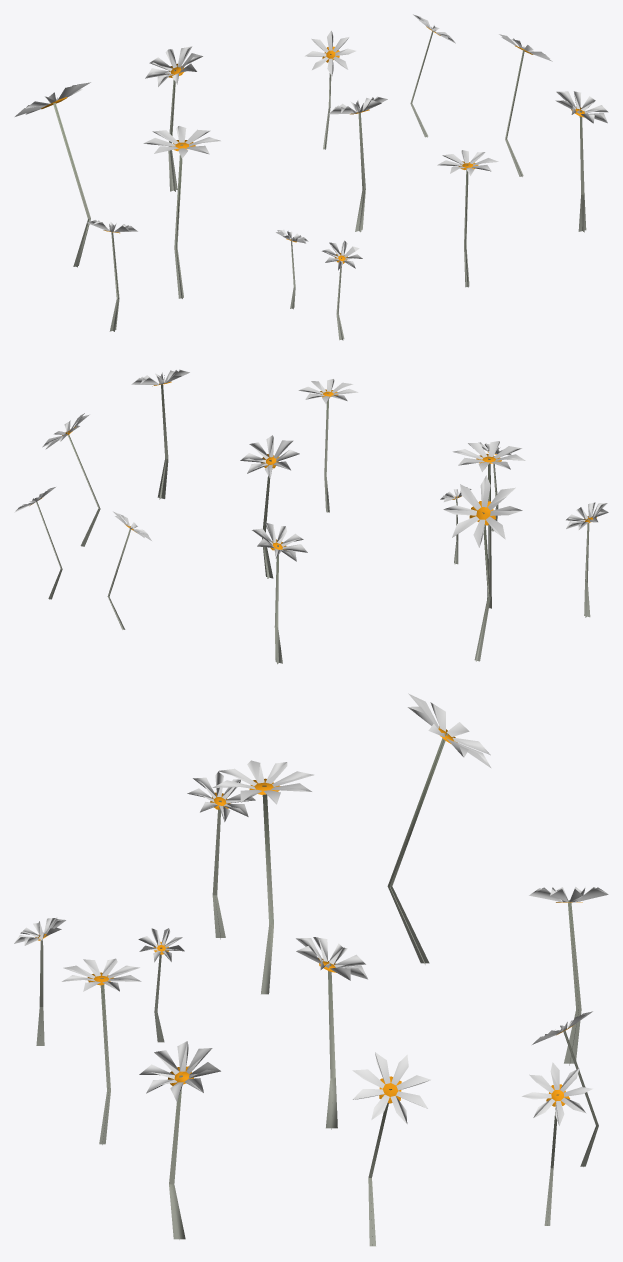
File: flower_daisy_low.glb
3 views of the same model, one above another, from view 1: azimuth 30°, elevation 25°; view 2: azimuth 150°, elevation 25°; view 3: azimuth 270°, elevation 25° (orthographic). The views are drawn at different scales.
Visible parts, largest first — view 1: Flower 4_4_A; view 2: Flower 4_4_A; view 3: Flower 4_4_A.
Boxes of the visible parts, x1=… form: Flower 4_4_A: x1=15, y1=14, x2=608, y2=340; Flower 4_4_A: x1=14, y1=369, x2=608, y2=664; Flower 4_4_A: x1=14, y1=693, x2=608, y2=1246.
Size of the model in its own units: 0.7351 by 0.2547 by 0.5391.
1 material, 1 textured.
